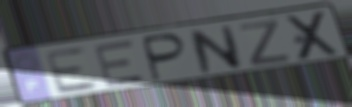E: (42, 46, 102, 97), (91, 38, 149, 89)
N: (187, 24, 245, 76)
P: (141, 32, 190, 84)
X: (283, 9, 343, 63)
Z: (237, 18, 293, 68)
